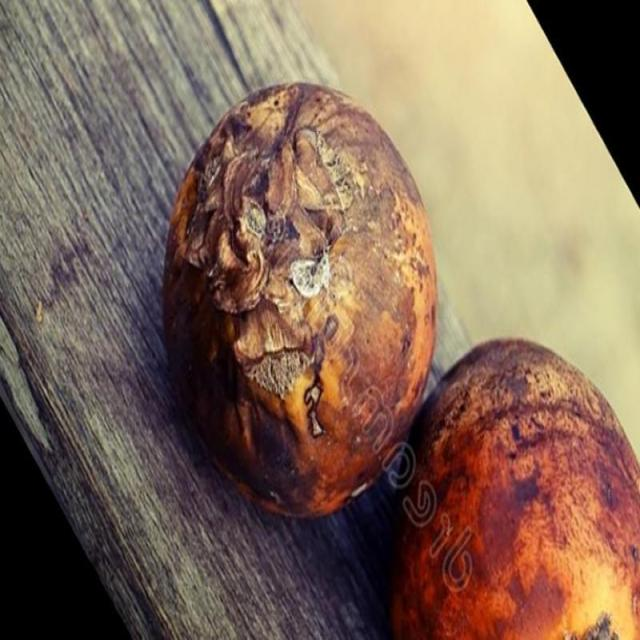damaged: (161, 83, 439, 521), (385, 339, 639, 639)
